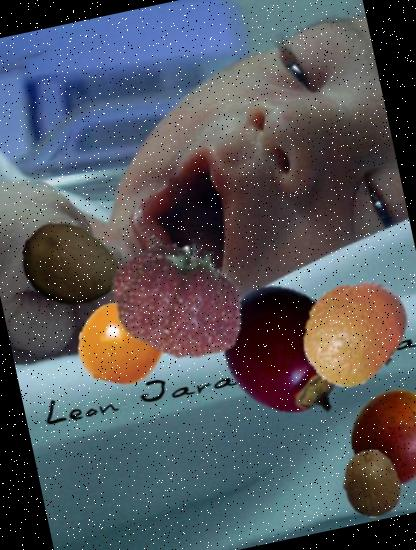Kiwi: (332, 443, 413, 524)
Mandarine: (285, 262, 416, 400)
Mango: (338, 378, 416, 492)
Papaya: (11, 207, 130, 326)
Physalis: (70, 292, 173, 394)
Strawberry: (96, 215, 262, 382)
Tamarillo: (202, 268, 370, 436)
